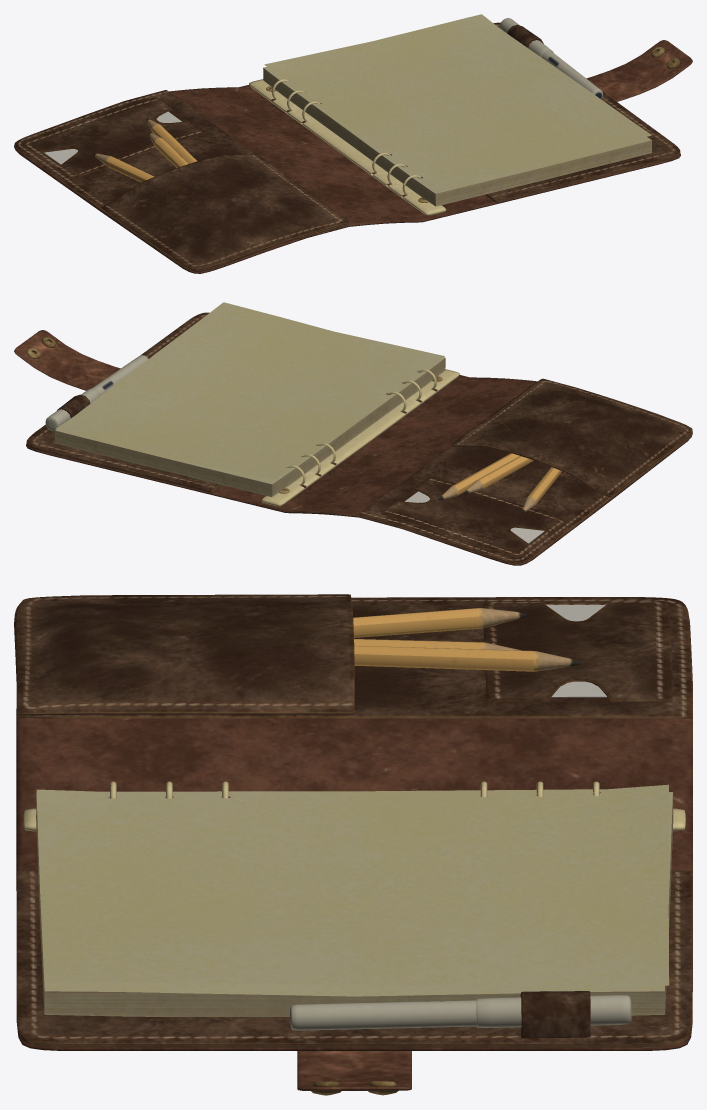
The model's file is diary.glb.
The picture shows the model from 3 angles, top to bottom: view 1: azimuth 30°, elevation 25°; view 2: azimuth 150°, elevation 25°; view 3: azimuth 270°, elevation 25°; orthographic projection. The views are drawn at different scales.
Visible parts, largest first — view 1: binder_notebook; view 2: binder_notebook; view 3: binder_notebook.
Boxes of the visible parts, x1,y1,x2,y2 form: binder_notebook: (14, 14, 692, 273); binder_notebook: (14, 302, 692, 565); binder_notebook: (14, 594, 692, 1095).
Bounding box in the file's own units: 0.3652 × 0.0179 × 0.2.
Materials: 1 (1 with a texture image).
